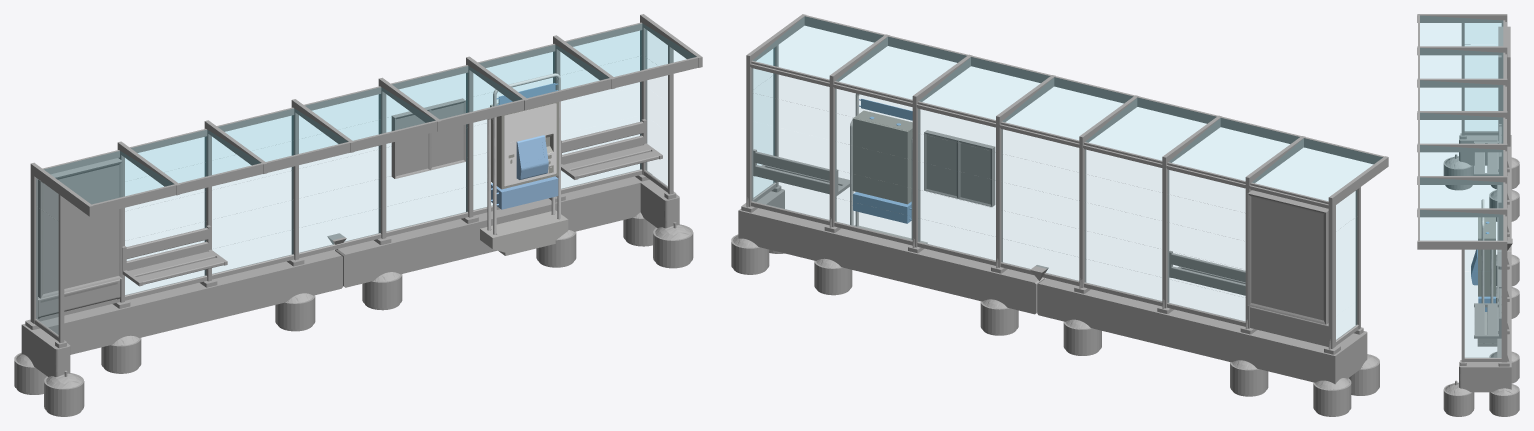
File: 50000006-xxx-Hirschwiesen-Wartehalle-RW.glb
3 views of the same model, side by side, from view 1: azimuth 30°, elevation 25°; view 2: azimuth 150°, elevation 25°; view 3: azimuth 270°, elevation 25° (orthographic). The views are drawn at different scales.
Parts seen in each view (by area): view 1: product-ab0c5b25-95e3-4b63-ad13-e03fe4fcacf2-body; view 2: product-ab0c5b25-95e3-4b63-ad13-e03fe4fcacf2-body; view 3: product-ab0c5b25-95e3-4b63-ad13-e03fe4fcacf2-body.
Part boxes in pixels (x1,y1,x2,y2): product-ab0c5b25-95e3-4b63-ad13-e03fe4fcacf2-body: (14, 14, 702, 416); product-ab0c5b25-95e3-4b63-ad13-e03fe4fcacf2-body: (731, 14, 1388, 416); product-ab0c5b25-95e3-4b63-ad13-e03fe4fcacf2-body: (1417, 14, 1519, 416).
Size of what is drawn, in the model's own units: 10.21 by 3.38 by 1.84.
